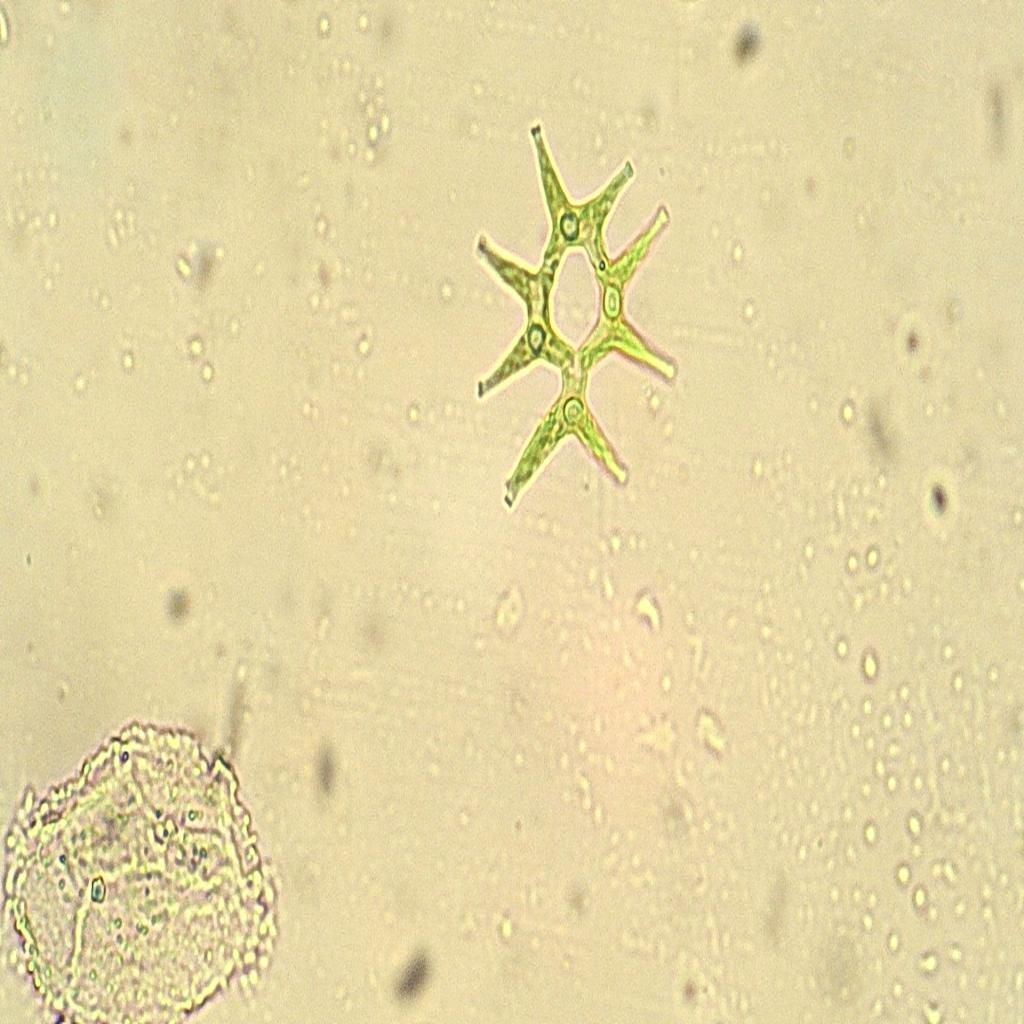Pediastrum_75FI: (461, 102, 690, 552)
